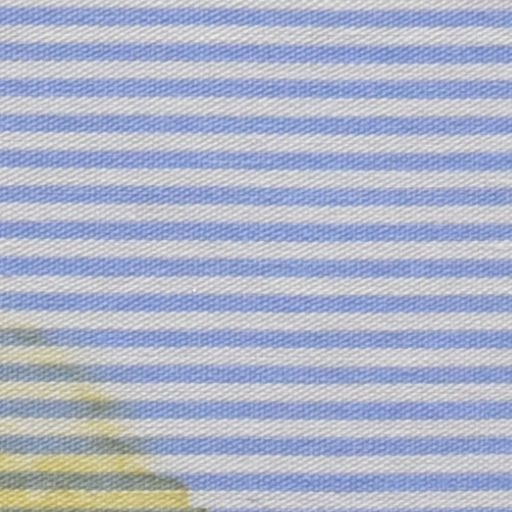defect: (1, 320, 194, 512)
